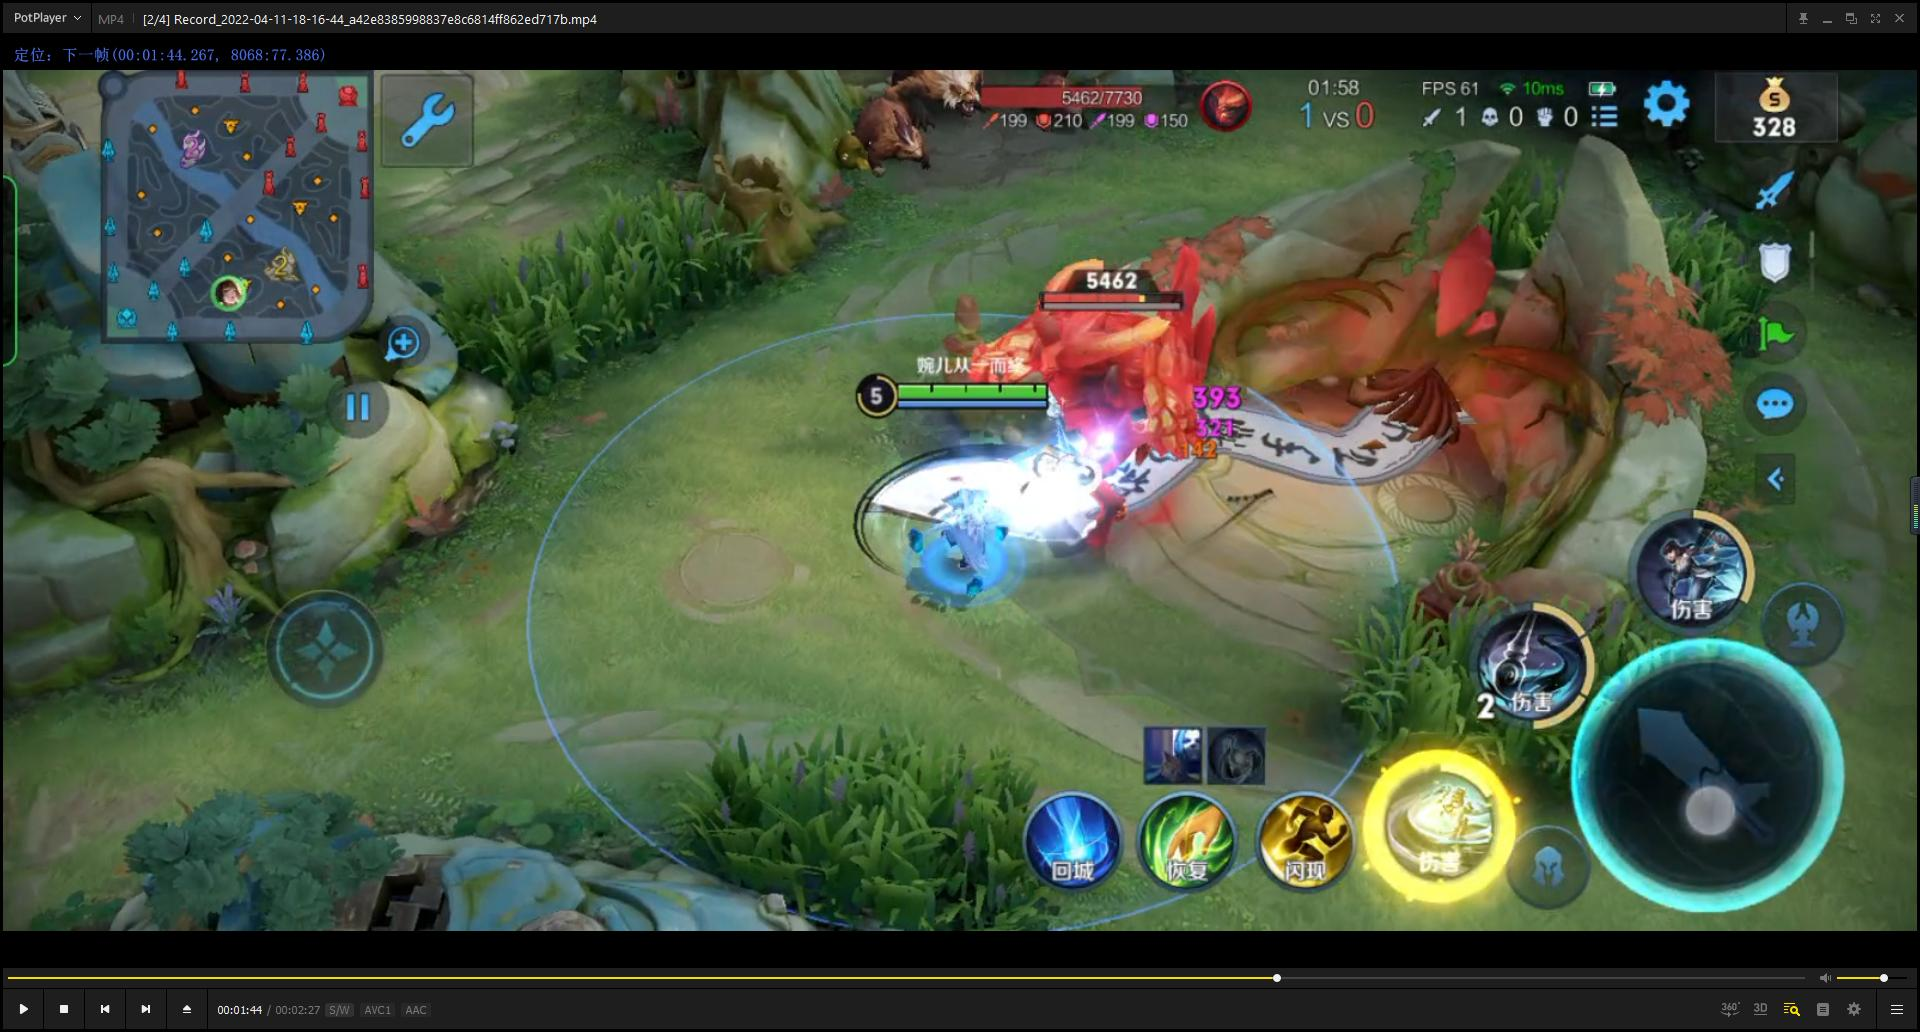Buff: (906, 212, 1264, 574)
Hero: (860, 459, 1064, 627)
Pig: (822, 89, 950, 211), (873, 66, 1005, 127)
